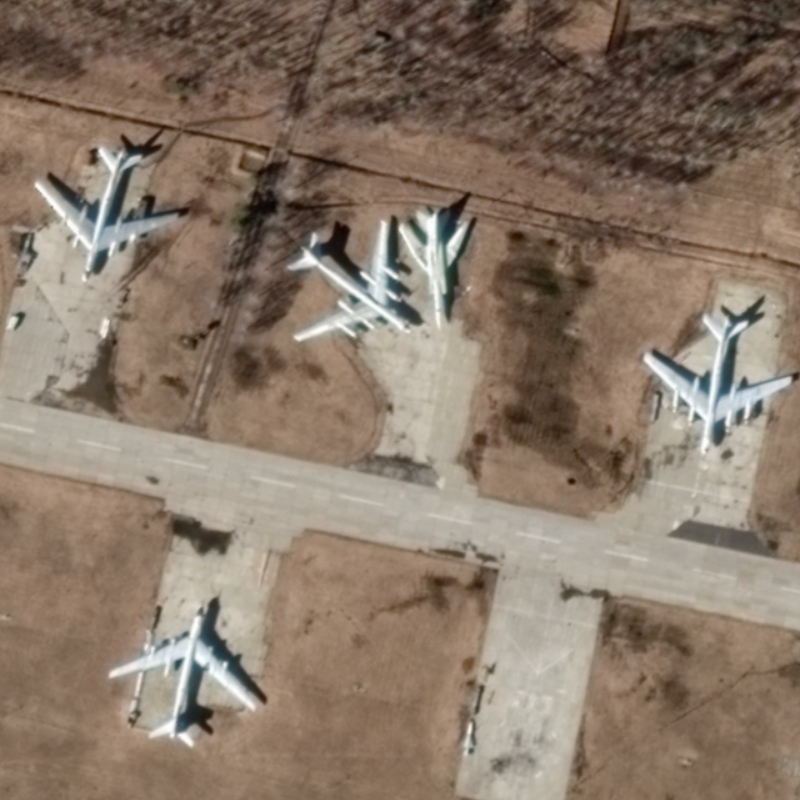A12: (396, 207, 472, 331)
A17: (640, 311, 794, 457), (107, 604, 259, 749), (32, 145, 182, 281), (285, 217, 413, 344)
